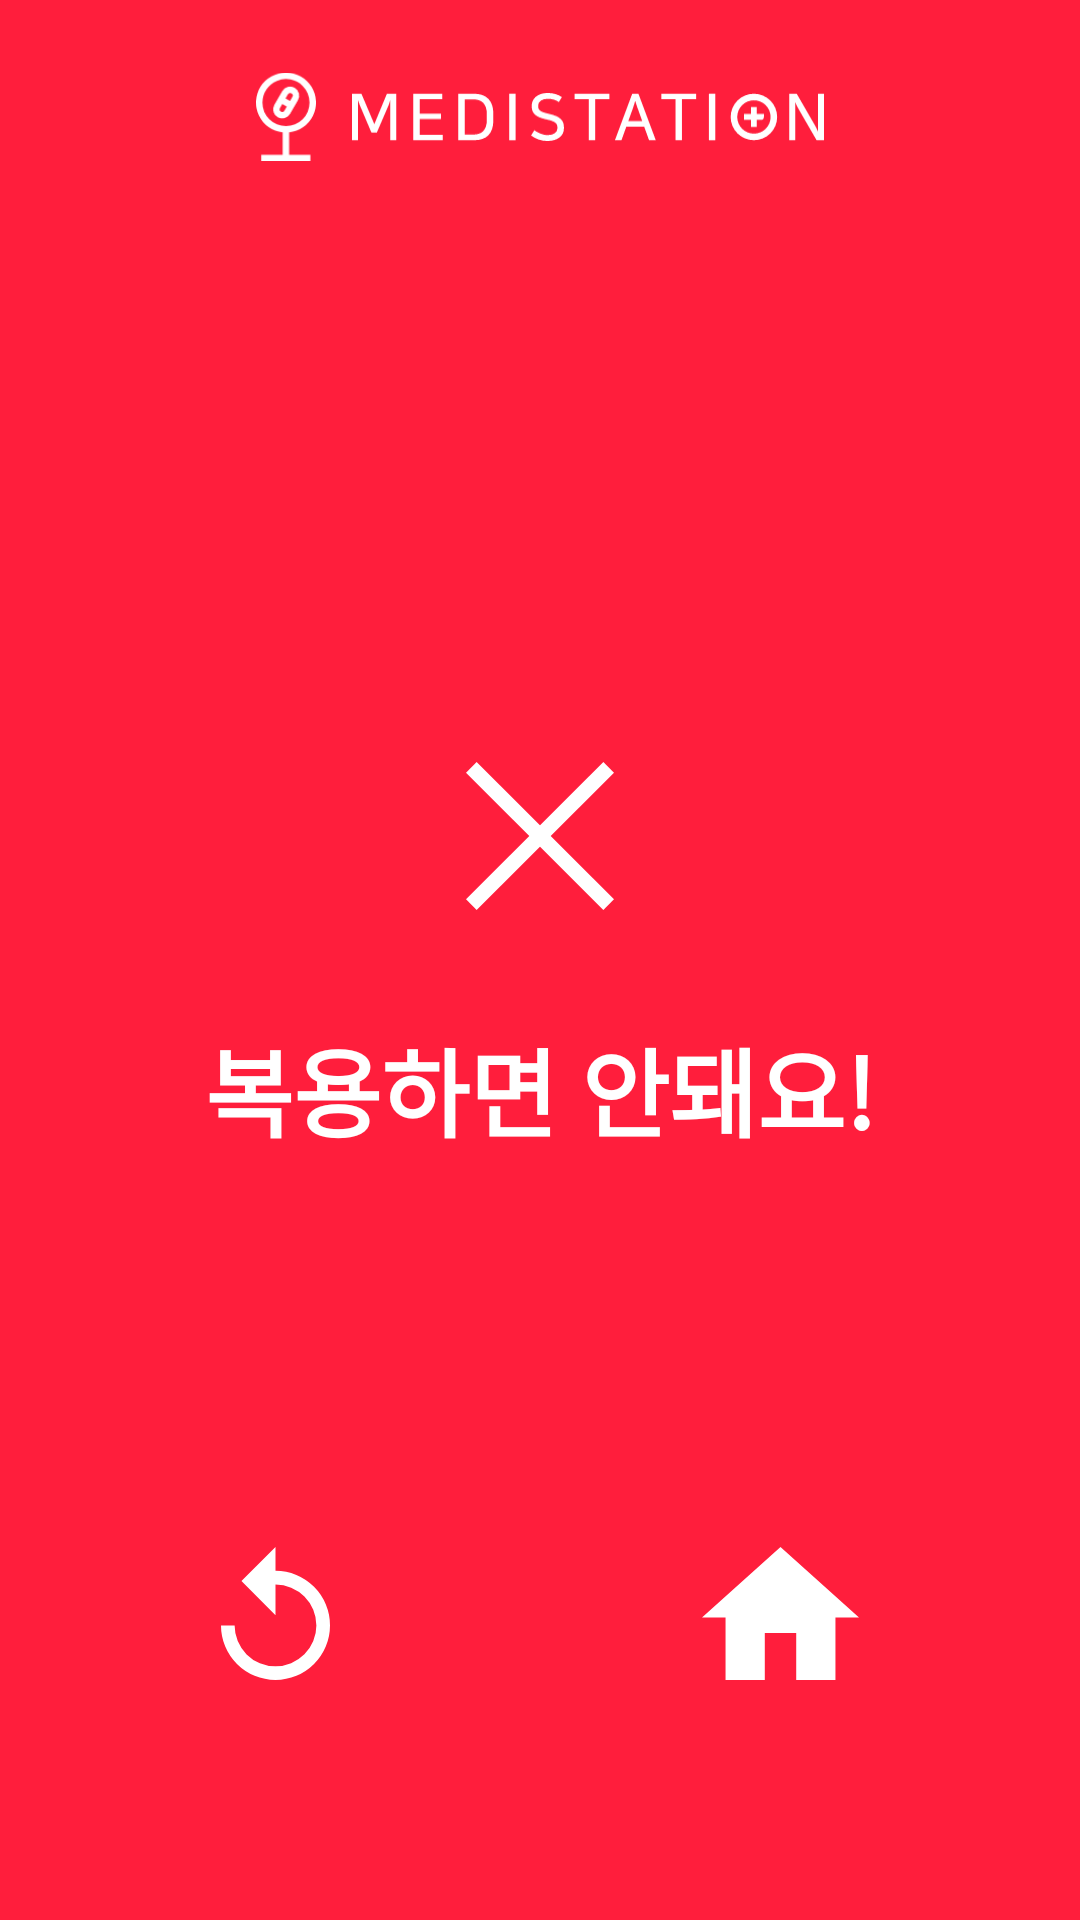

Screen size 1080 × 1920. Icon name, then its center in pixels as (x=x, y=y):
go back: (x=275, y=1613)
home: (x=780, y=1613)
